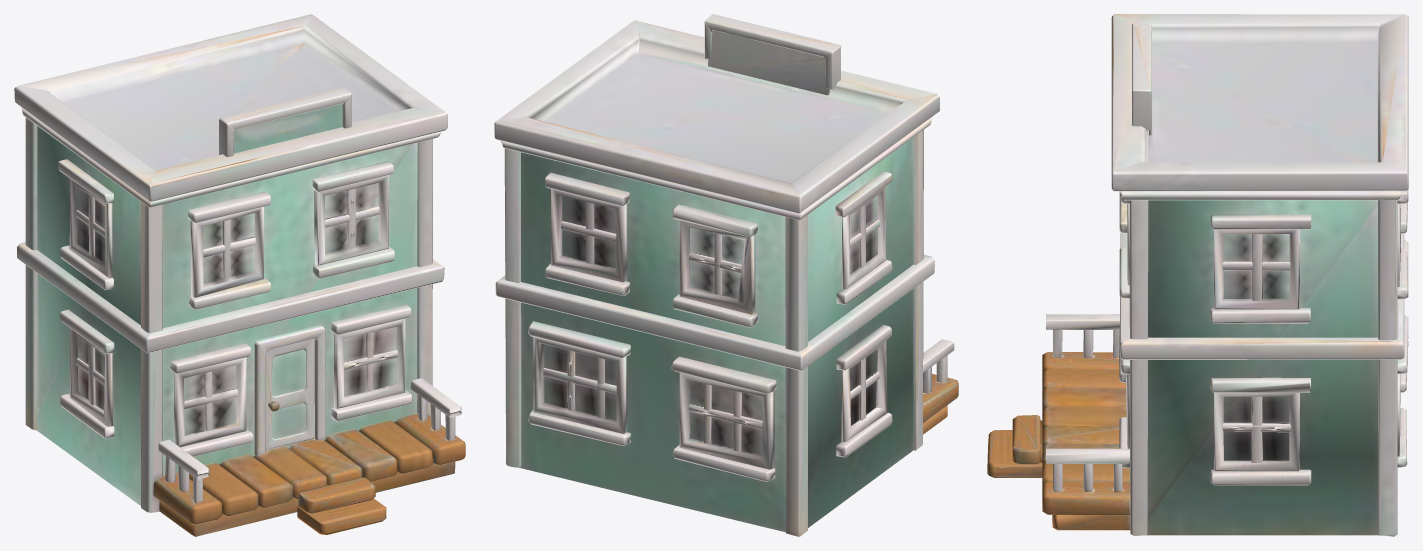
File: beach_a.glb
The picture shows the model from 3 angles, left to right: view 1: azimuth 30°, elevation 25°; view 2: azimuth 150°, elevation 25°; view 3: azimuth 270°, elevation 25°; orthographic projection. The views are drawn at different scales.
Bounding box in the file's own units: 0.8032 × 0.9536 × 0.898.
1 material, 1 textured.
